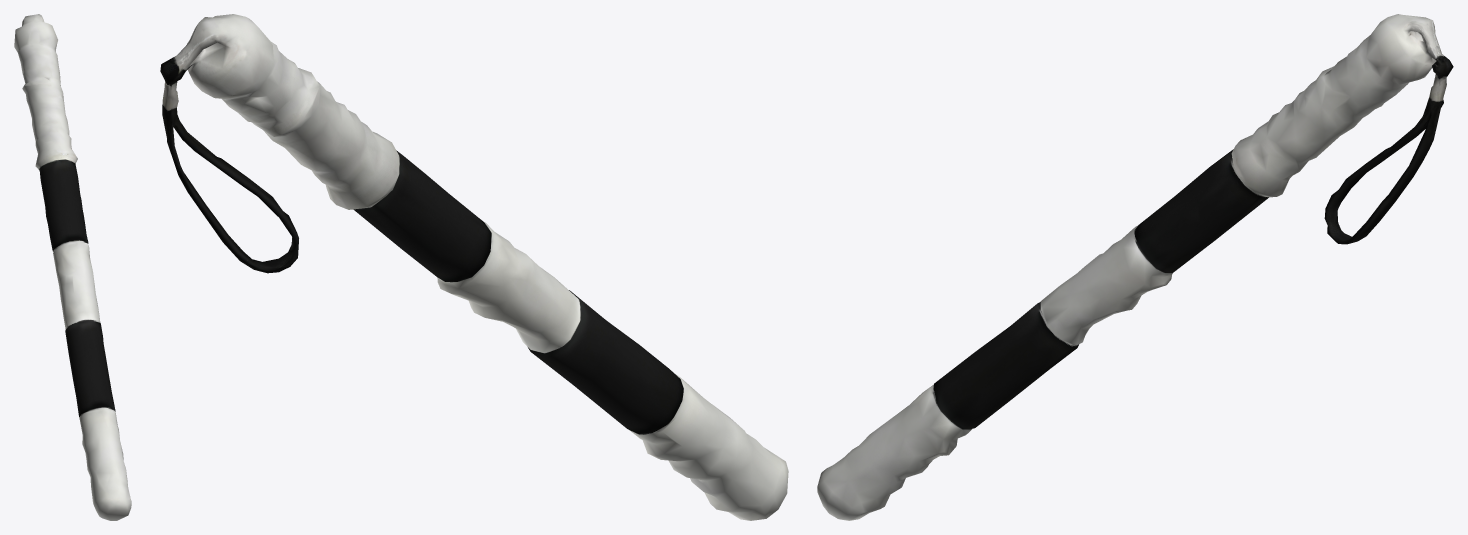
The model's file is baton.glb.
The picture shows the model from 3 angles, left to right: view 1: azimuth 30°, elevation 25°; view 2: azimuth 150°, elevation 25°; view 3: azimuth 270°, elevation 25°; orthographic projection. The views are drawn at different scales.
Parts seen in each view (by area): view 1: tripo_node_49ddbc22-1a7f-4c1c-bfa6-73b3a96dbfc8; view 2: tripo_node_49ddbc22-1a7f-4c1c-bfa6-73b3a96dbfc8; view 3: tripo_node_49ddbc22-1a7f-4c1c-bfa6-73b3a96dbfc8.
Part boxes in pixels (x1,y1,x2,y2): tripo_node_49ddbc22-1a7f-4c1c-bfa6-73b3a96dbfc8: (14,14,131,520); tripo_node_49ddbc22-1a7f-4c1c-bfa6-73b3a96dbfc8: (160,14,788,520); tripo_node_49ddbc22-1a7f-4c1c-bfa6-73b3a96dbfc8: (817,14,1453,520).
Size of the model in its own units: 0.3948 by 0.9987 by 1.
1 material, 1 textured.
